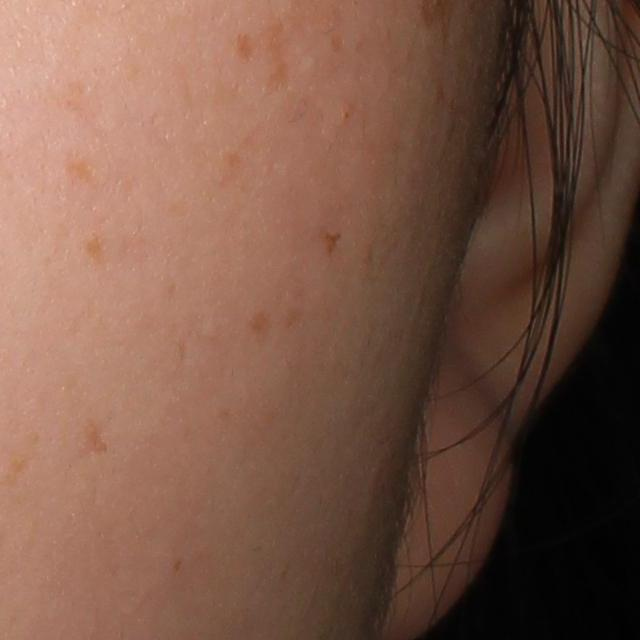melasma: (231, 9, 301, 96), (71, 421, 117, 460), (60, 152, 105, 190), (83, 231, 110, 267), (245, 308, 269, 339), (321, 228, 343, 259)
